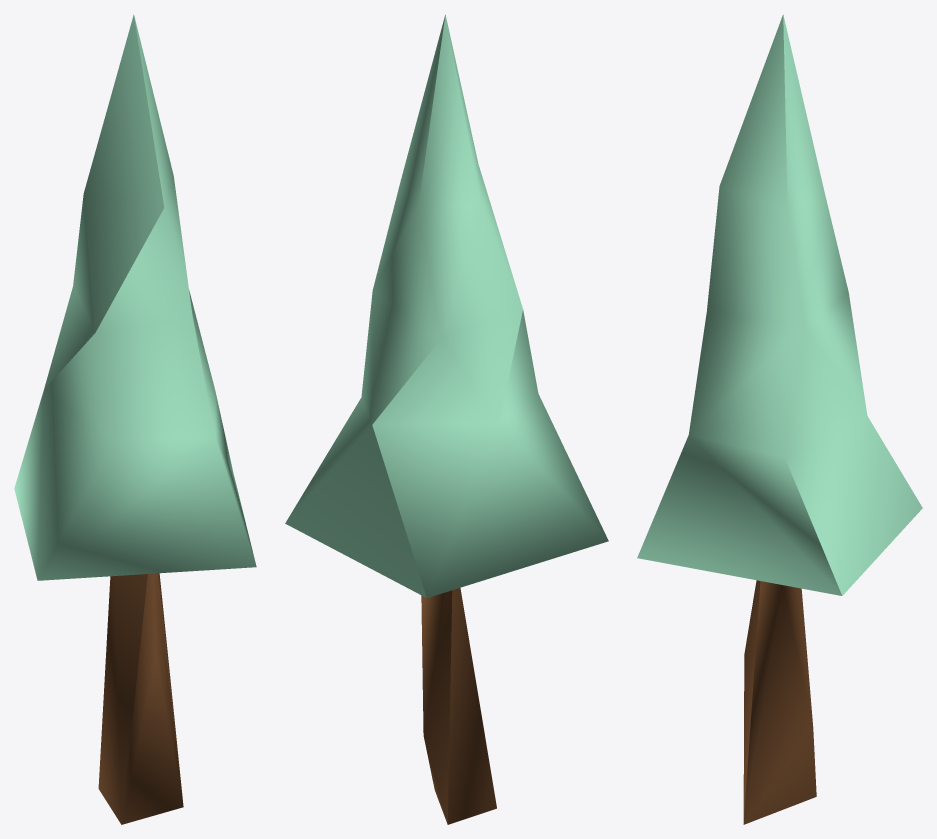
The model's file is Tree_Low.obj.
The picture shows the model from 3 angles, left to right: view 1: azimuth 30°, elevation 25°; view 2: azimuth 150°, elevation 25°; view 3: azimuth 270°, elevation 25°; orthographic projection.
Visible parts, largest first — view 1: Tree; view 2: Tree; view 3: Tree.
Boxes of the visible parts, x1,y1,x2,y2 form: Tree: [14, 14, 256, 824]; Tree: [285, 14, 608, 824]; Tree: [637, 14, 922, 824].
Size of the model in its own units: 1.01 by 2.96 by 0.9598.
